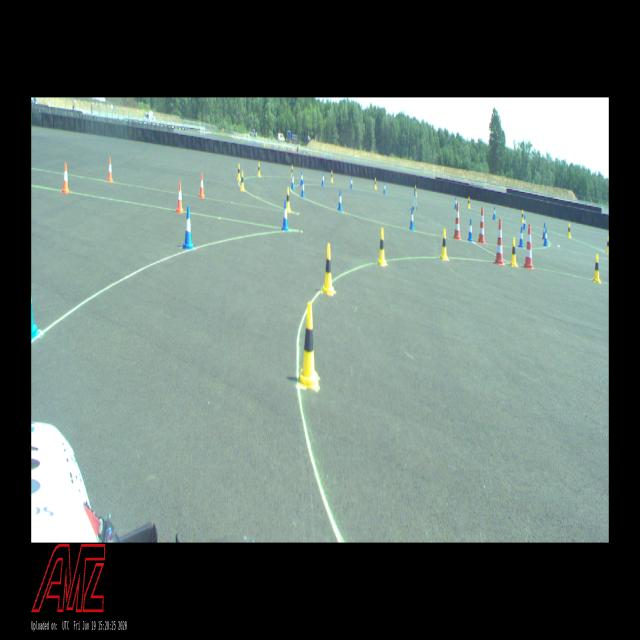blue_cone: (182, 206, 194, 249), (282, 200, 288, 230), (409, 208, 414, 230), (468, 219, 472, 242), (519, 227, 523, 247), (338, 190, 342, 210), (301, 180, 305, 198), (544, 228, 548, 246), (542, 222, 546, 239), (291, 173, 295, 189), (523, 216, 526, 230), (300, 171, 303, 184), (350, 176, 353, 189), (454, 196, 457, 209), (493, 207, 496, 219), (383, 182, 386, 194), (322, 172, 324, 185)
large_orange_cone: (495, 218, 505, 265), (524, 224, 534, 270), (478, 206, 486, 244), (453, 203, 461, 239)
orange_cone: (61, 162, 70, 192), (176, 182, 184, 213), (106, 157, 114, 182), (198, 173, 204, 198)
yellow_cone: (299, 302, 319, 389), (322, 244, 334, 294), (378, 228, 386, 265), (440, 229, 448, 259), (510, 238, 517, 266), (593, 255, 600, 282), (286, 187, 290, 212), (240, 171, 244, 191), (237, 164, 241, 180), (567, 224, 571, 238), (521, 210, 524, 222), (606, 237, 608, 253), (258, 163, 260, 176), (331, 170, 333, 182), (291, 165, 293, 177), (468, 197, 470, 208), (415, 186, 417, 197), (374, 178, 376, 188)
